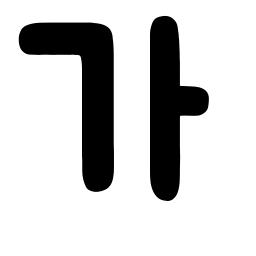Gaji: (136, 75, 200, 130)
